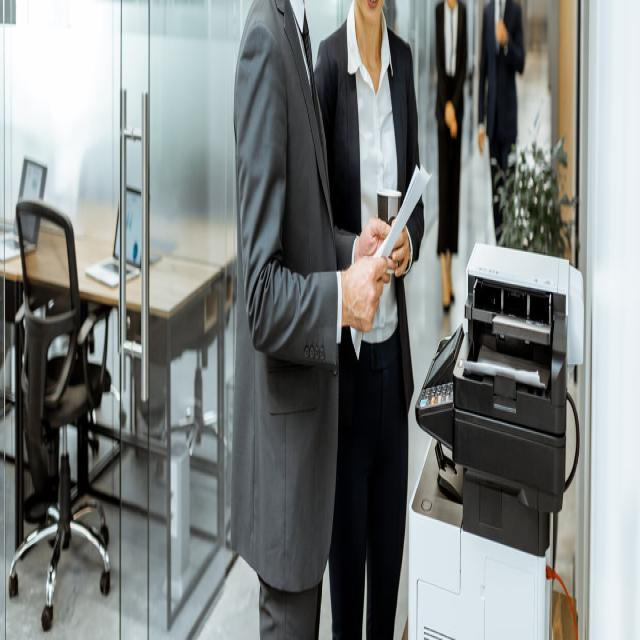printer: (406, 240, 584, 637)
